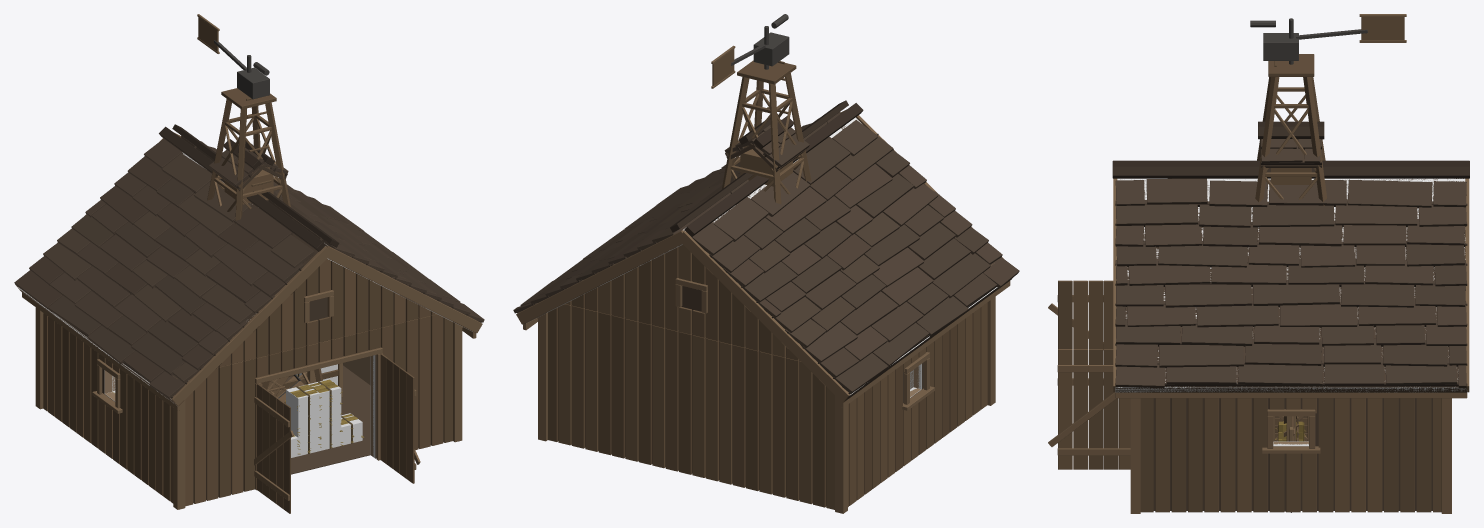
File: kits.glb
3 renders of one model, left to right at view 1: azimuth 30°, elevation 25°; view 2: azimuth 150°, elevation 25°; view 3: azimuth 270°, elevation 25°, orthographic. The views are drawn at different scales.
Visible parts, largest first — view 1: HayShed, Windmill, HayShedCol; view 2: HayShed, Windmill, HayShedCol; view 3: HayShed, Windmill, HayShedCol.
Boxes of the visible parts, <box> form: HayShed: <box>14,124,484,513</box>; Windmill: <box>197,14,322,391</box>; HayShedCol: <box>18,152,472,458</box>; HayShed: <box>513,100,1019,513</box>; Windmill: <box>711,14,812,203</box>; HayShedCol: <box>547,117,997,397</box>; HayShed: <box>1048,121,1469,513</box>; Windmill: <box>1250,14,1406,205</box>; HayShedCol: <box>1115,178,1467,446</box>.
Bounding box in the file's own units: 8.15 × 10.63 × 8.27.
